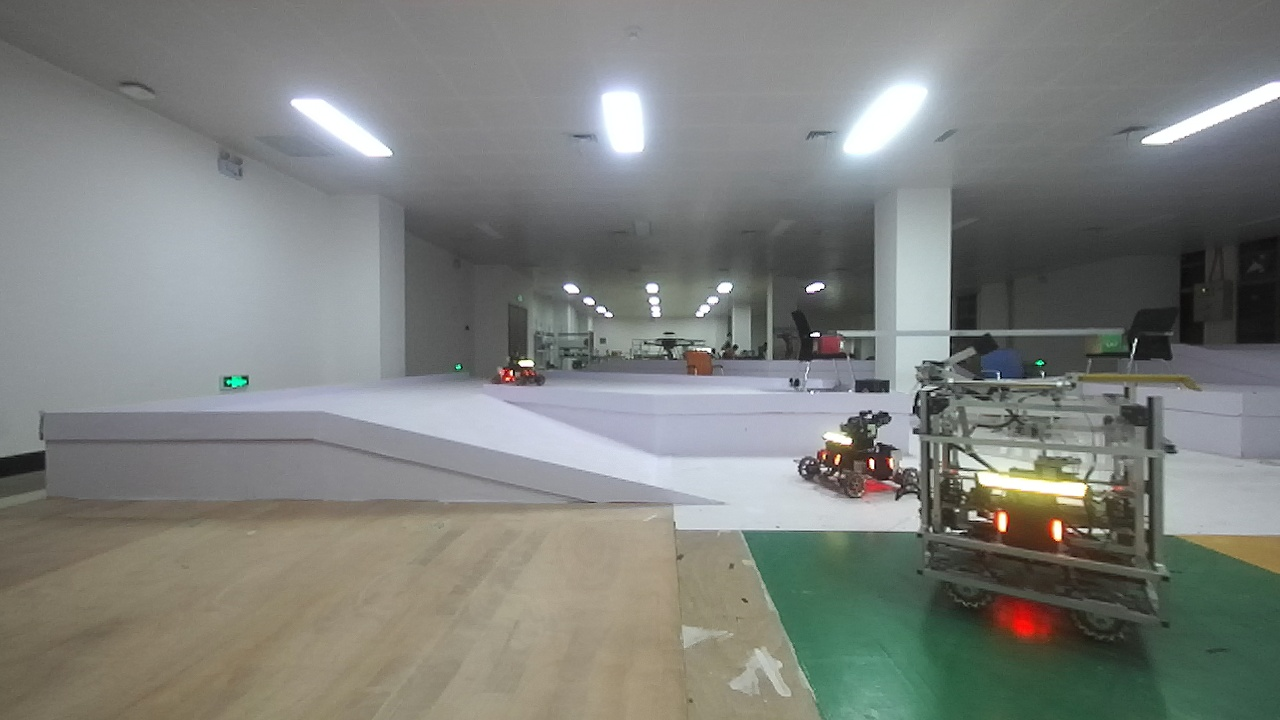car: (902, 379, 1178, 648), (795, 412, 914, 516), (480, 356, 561, 406)
